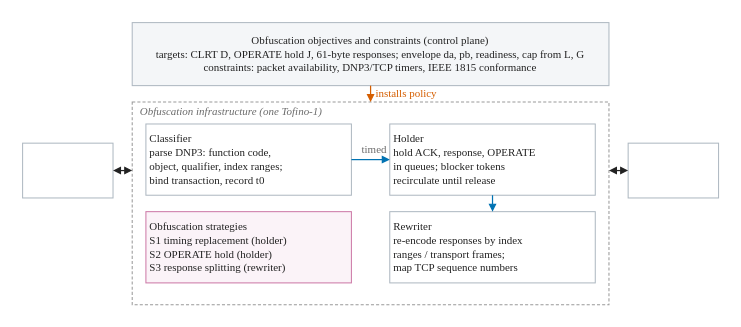
Image size: 741x327. Some labels were removed from this diagram. The shapes that lost their labels are listed below. From the top down, each one's centre as x and y in pixels, then its label:
(x=67, y=170): SCADA master
(x=672, y=170): Outstation (IED)
